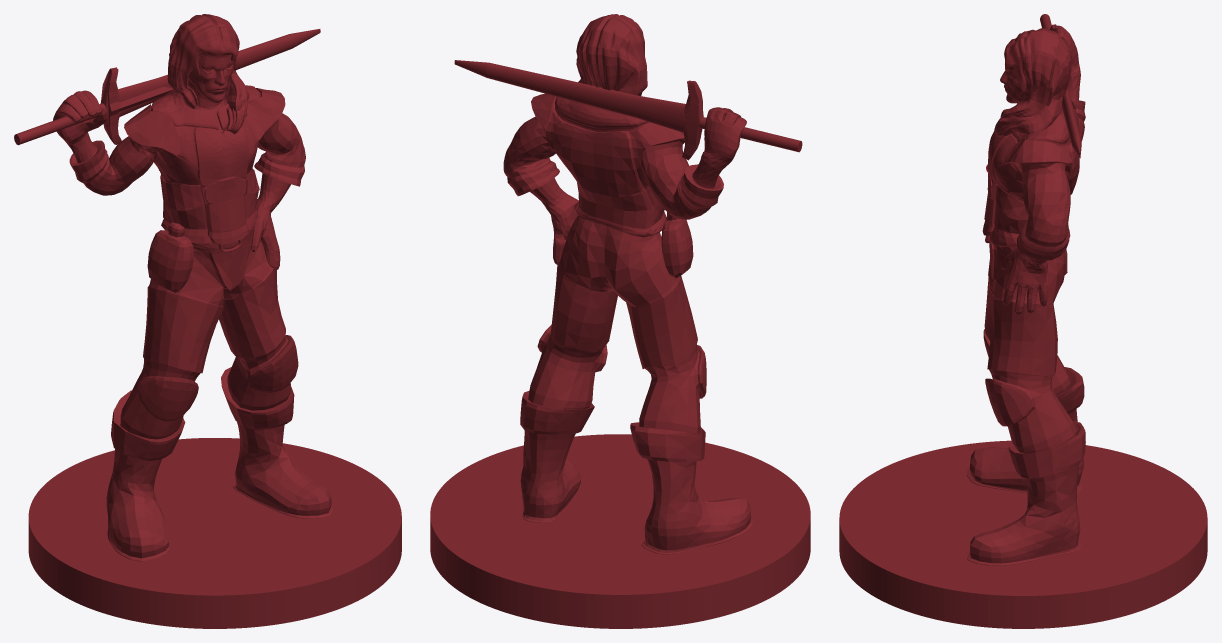
The model's file is Jeremiah2.fbx.
3 views of the same model, side by side, from view 1: azimuth 30°, elevation 25°; view 2: azimuth 150°, elevation 25°; view 3: azimuth 270°, elevation 25° (orthographic). The views are drawn at different scales.
Parts seen in each view (by area): view 1: Hexblade Warlock; view 2: Hexblade Warlock; view 3: Hexblade Warlock.
Boxes of the visible parts, bbox=[...] form: Hexblade Warlock: bbox=[14, 14, 401, 628]; Hexblade Warlock: bbox=[430, 14, 810, 628]; Hexblade Warlock: bbox=[839, 14, 1207, 628].
Bounding box in the file's own units: 2728 × 2525 × 3935.
